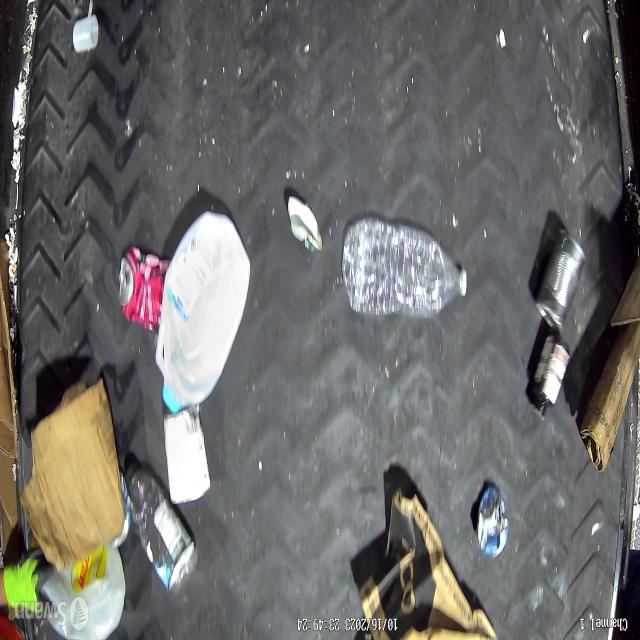can: (536, 230, 586, 334), (118, 245, 164, 338), (476, 486, 508, 559)
milk_jug: (153, 213, 250, 412), (37, 546, 124, 640)
plastic_bottle: (343, 218, 469, 318), (125, 458, 197, 596)
